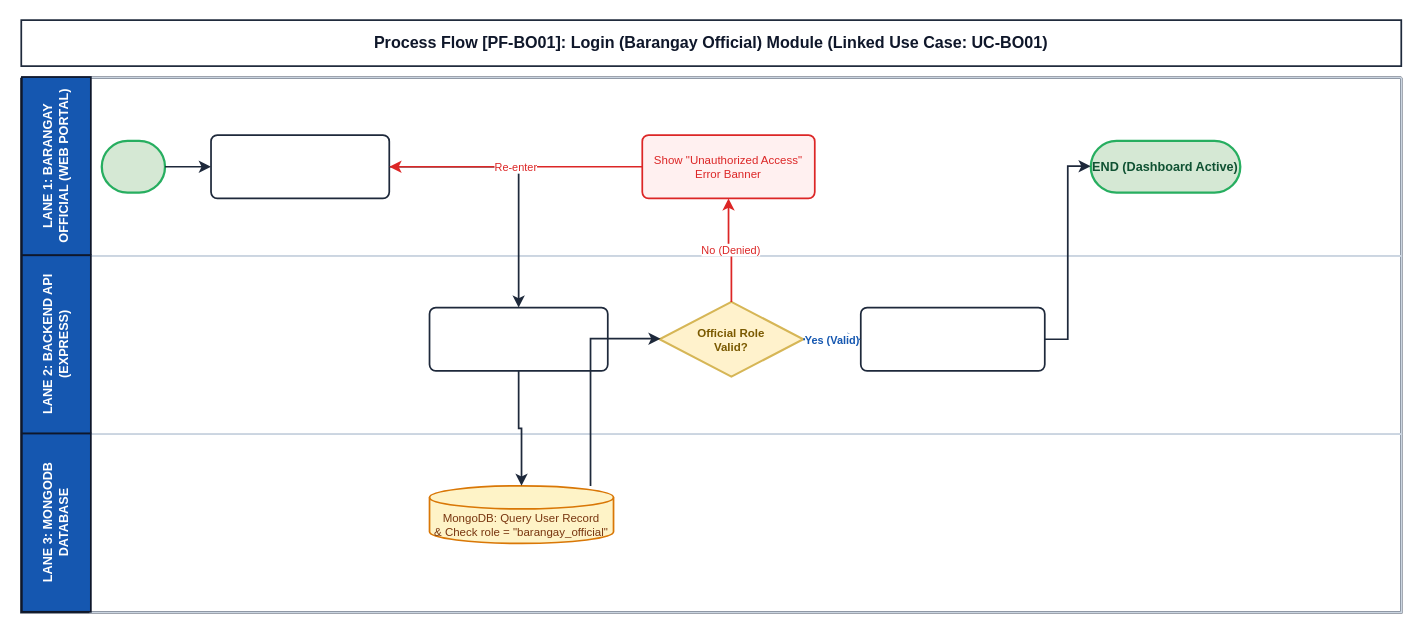
The diagram is 1421 pixels wide and 634 high, and some of its shapes have lost their labels. Here are the shapes that lost their labels. From the top down, the centre of each, then its label:
point 133,166: START
point 300,166: Enter Official Email/Phone & Password; Click Login
point 518,338: POST /api/auth/login Official Credentials Payload
point 952,338: Sign JWT Token Scoped to Barangay Operational Jurisdiction
